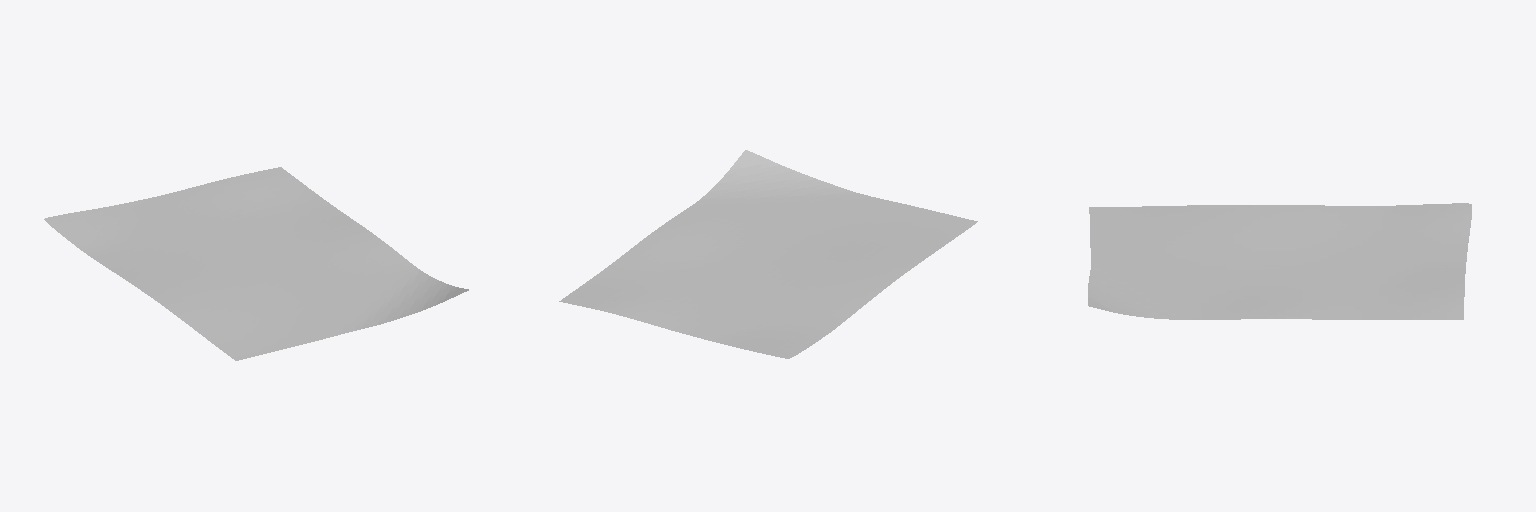
The model's file is paper.obj.
3 views of the same model, side by side, from view 1: azimuth 30°, elevation 25°; view 2: azimuth 150°, elevation 25°; view 3: azimuth 270°, elevation 25° (orthographic).
Visible parts, largest first — view 1: Plane; view 2: Plane; view 3: Plane.
Boxes of the visible parts, x1=… form: Plane: x1=44, y1=167, x2=468, y2=360; Plane: x1=559, y1=150, x2=977, y2=358; Plane: x1=1088, y1=203, x2=1471, y2=319.
Bounding box in the file's own units: 2.89 × 0.174 × 4.07.